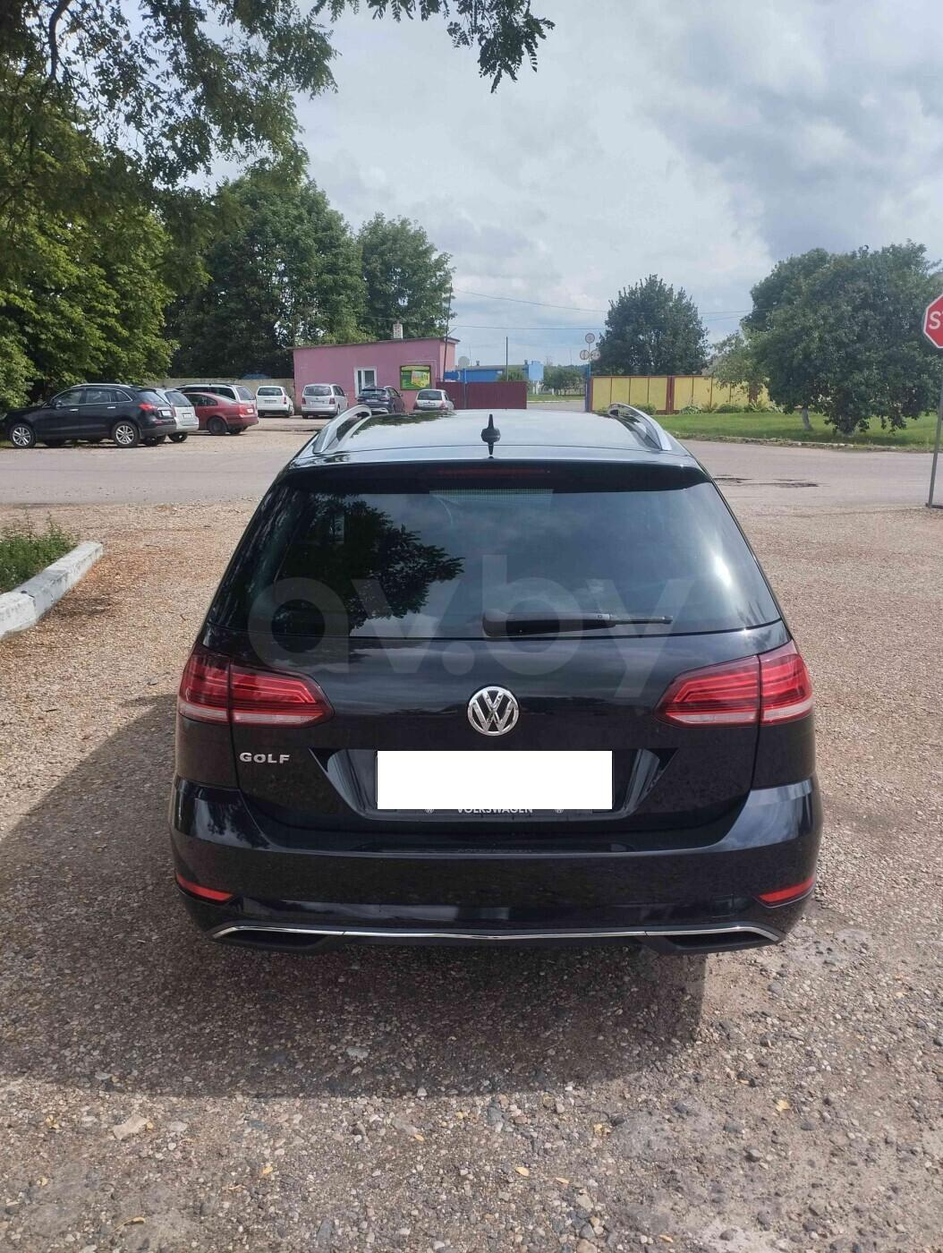Golf_2017-2021: (166, 403, 828, 988)
